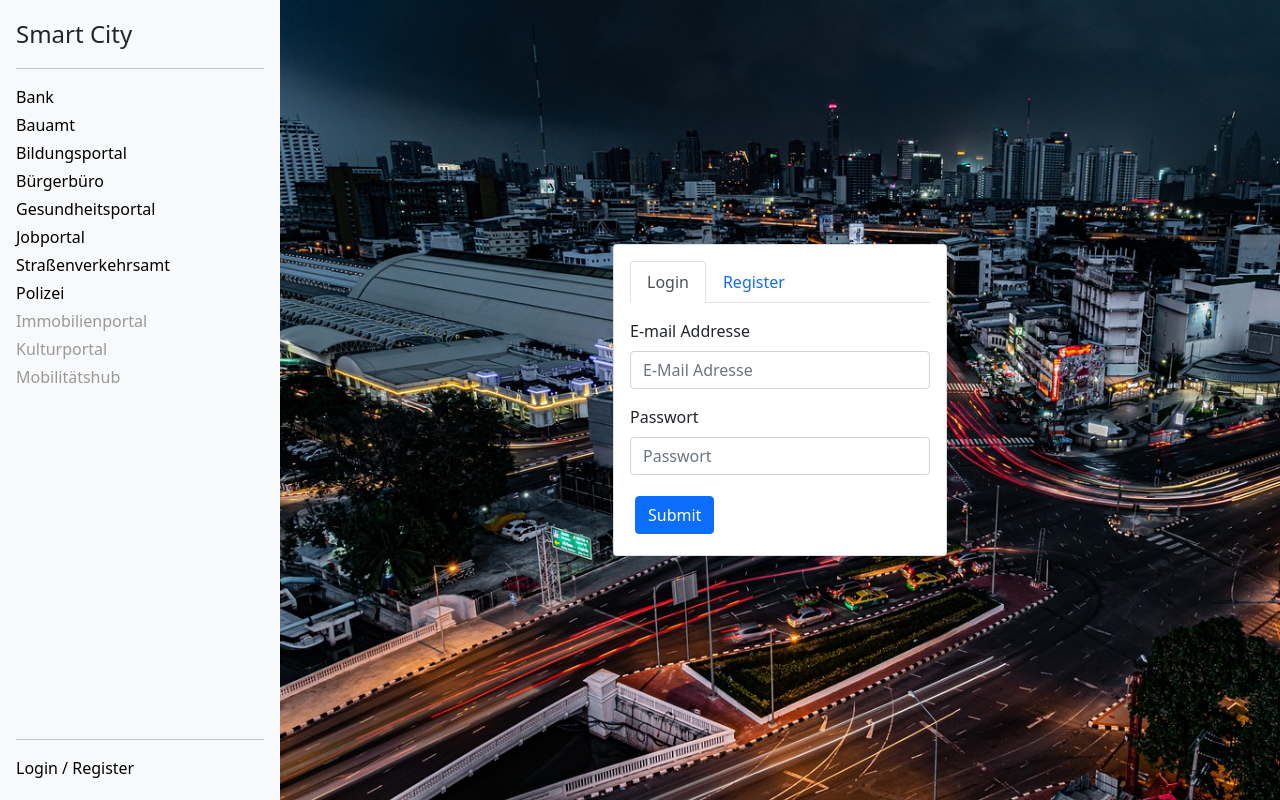
it: show error message if the email input field is empty › displays an error message if the email input field is empty
Type "secret1234" into the password field with id "formBasicPassword".
click(780, 456); type("secret1234")  # box [630, 437, 930, 475]
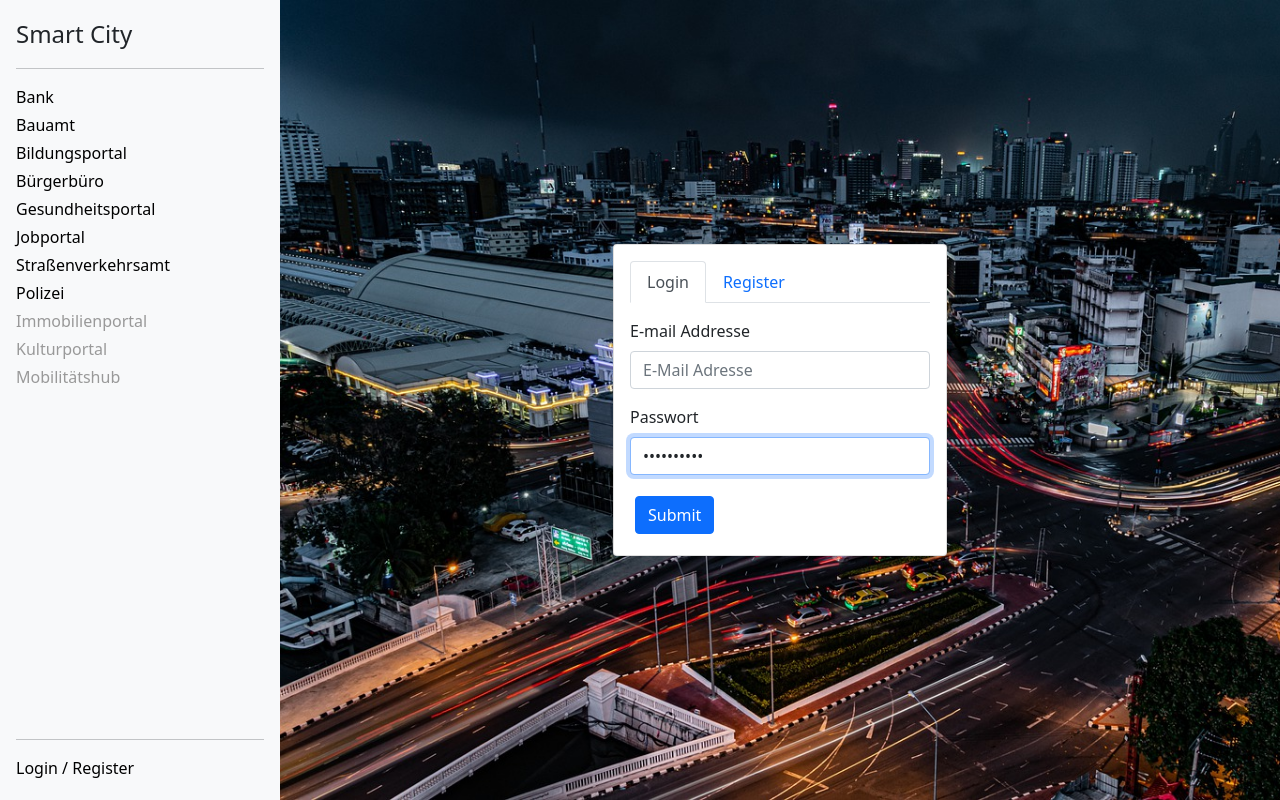
Click the button with id "submitLogin".
click(675, 515)  # box [635, 496, 714, 534]
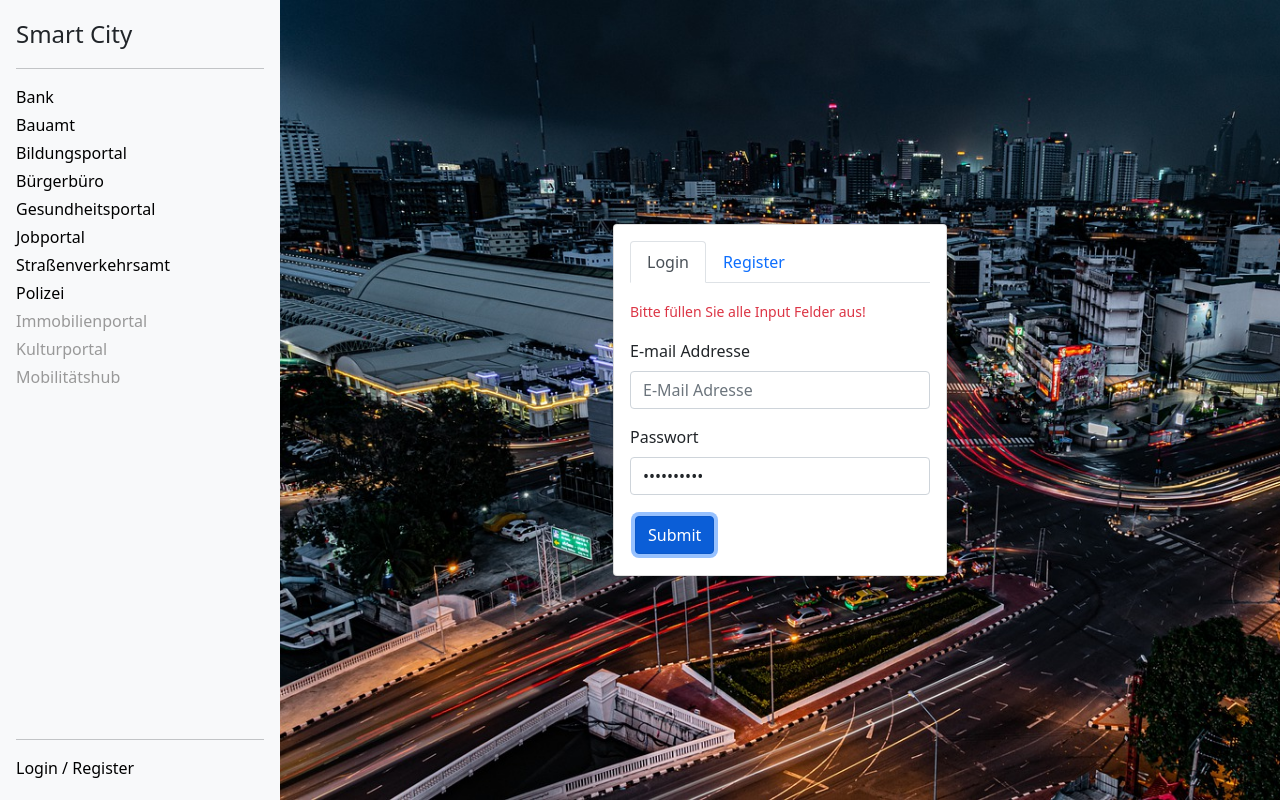
Result: the text "Bitte füllen Sie alle Input Felder aus!" is shown at [630, 302, 866, 321]
